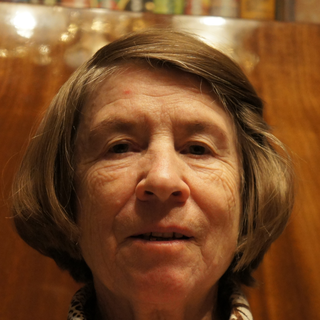eye: (99, 136, 144, 162), (178, 138, 220, 163)
